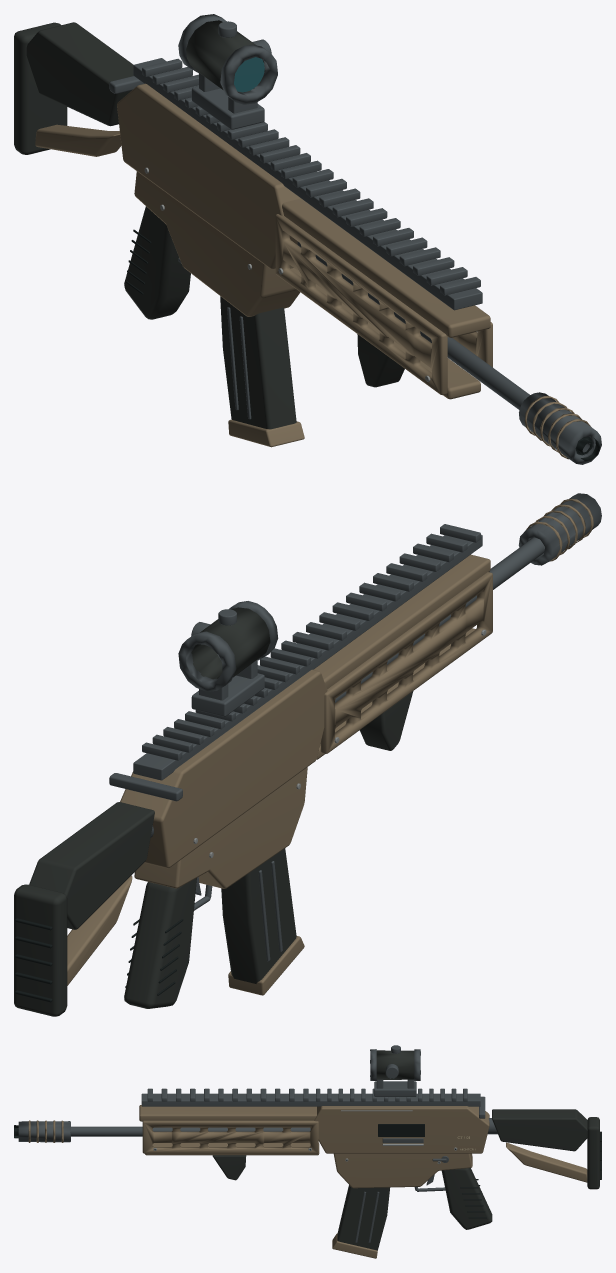
File: m3_rifle.glb
3 views of the same model, one above another, from view 1: azimuth 30°, elevation 25°; view 2: azimuth 150°, elevation 25°; view 3: azimuth 270°, elevation 25° (orthographic). The views are drawn at different scales.
Parts seen in each view (by area): view 1: m3_rifle_nc7_coating, m3_rifle_nc7_polymer, m3_rifle_nc7_alloy, m3_rifle_nc7_lens, m3_rifle_nc7_dark; view 2: m3_rifle_nc7_coating, m3_rifle_nc7_polymer, m3_rifle_nc7_alloy, m3_rifle_nc7_dark; view 3: m3_rifle_nc7_coating, m3_rifle_nc7_polymer, m3_rifle_nc7_alloy, m3_rifle_nc7_dark, m3_rifle_nc7_edge.
Boxes of the visible parts, x1=… form: m3_rifle_nc7_coating: x1=35, y1=83, x2=590, y2=459; m3_rifle_nc7_polymer: x1=14, y1=20, x2=404, y2=429; m3_rifle_nc7_alloy: x1=109, y1=14, x2=601, y2=464; m3_rifle_nc7_lens: x1=234, y1=57, x2=264, y2=92; m3_rifle_nc7_dark: x1=125, y1=229, x2=599, y2=460; m3_rifle_nc7_coating: x1=67, y1=498, x2=593, y2=995; m3_rifle_nc7_polymer: x1=14, y1=607, x2=413, y2=1016; m3_rifle_nc7_alloy: x1=109, y1=493, x2=601, y2=961; m3_rifle_nc7_dark: x1=15, y1=918, x2=183, y2=1002; m3_rifle_nc7_coating: x1=28, y1=1105, x2=587, y2=1258; m3_rifle_nc7_polymer: x1=212, y1=1050, x2=599, y2=1250; m3_rifle_nc7_alloy: x1=18, y1=1045, x2=497, y2=1242; m3_rifle_nc7_dark: x1=14, y1=1124, x2=601, y2=1218; m3_rifle_nc7_edge: x1=153, y1=1110, x2=457, y2=1163.
Size of the model in its own units: 0.0765 by 0.4145 by 1.06.
